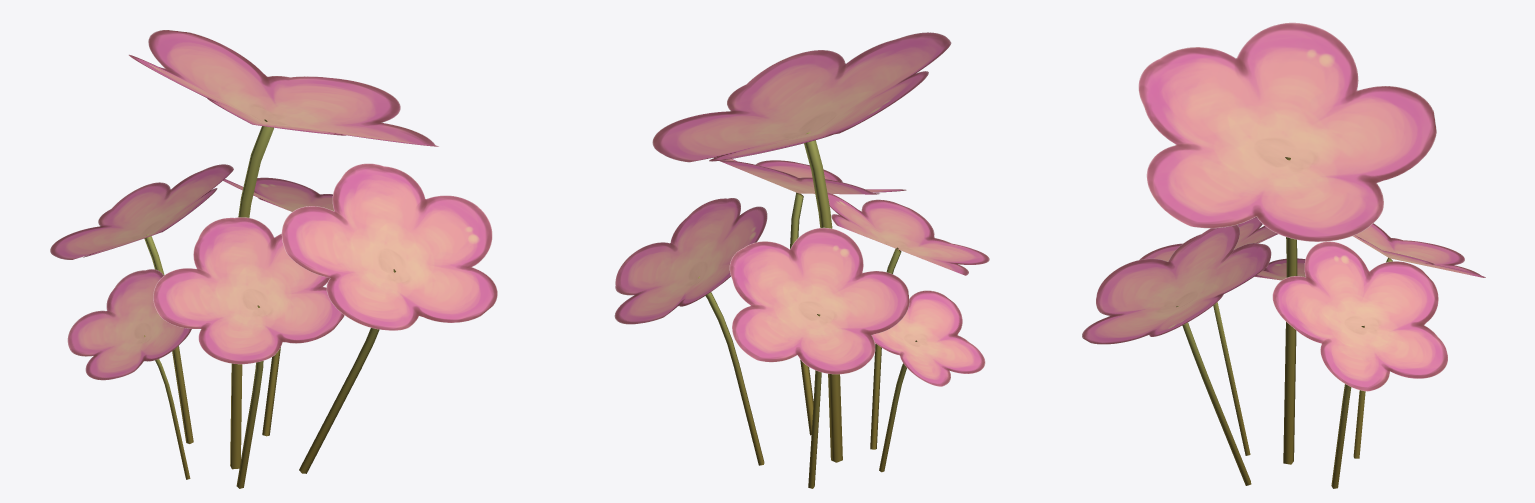
File: SM_Flowers_5.fbx
3 views of the same model, side by side, from view 1: azimuth 30°, elevation 25°; view 2: azimuth 150°, elevation 25°; view 3: azimuth 270°, elevation 25° (orthographic). The views are drawn at different scales.
Visible parts, largest first — view 1: polySurface513, polySurface512, polySurface504, polySurface511, polySurface510, polySurface509; view 2: polySurface504, polySurface510, polySurface509, polySurface511, polySurface512, polySurface513; view 3: polySurface504, polySurface509, polySurface513, polySurface510, polySurface512, polySurface511.
Part boxes in pixels (x1=…): polySurface513: x1=281, y1=163, x2=497, y2=473; polySurface512: x1=153, y1=217, x2=344, y2=488; polySurface504: x1=128, y1=30, x2=438, y2=469; polySurface511: x1=67, y1=269, x2=191, y2=479; polySurface510: x1=50, y1=164, x2=233, y2=443; polySurface509: x1=223, y1=177, x2=333, y2=436; polySurface504: x1=652, y1=32, x2=951, y2=462; polySurface510: x1=729, y1=227, x2=909, y2=488; polySurface509: x1=614, y1=198, x2=767, y2=465; polySurface511: x1=872, y1=290, x2=985, y2=472; polySurface512: x1=827, y1=192, x2=989, y2=449; polySurface513: x1=714, y1=157, x2=906, y2=435; polySurface504: x1=1138, y1=22, x2=1436, y2=464; polySurface509: x1=1272, y1=241, x2=1447, y2=488; polySurface513: x1=1082, y1=224, x2=1271, y2=485; polySurface510: x1=1353, y1=223, x2=1485, y2=458; polySurface512: x1=1139, y1=217, x2=1277, y2=455; polySurface511: x1=1254, y1=258, x2=1305, y2=280.
Bounding box in the file's own units: 8.73 × 9.17 × 9.98.
